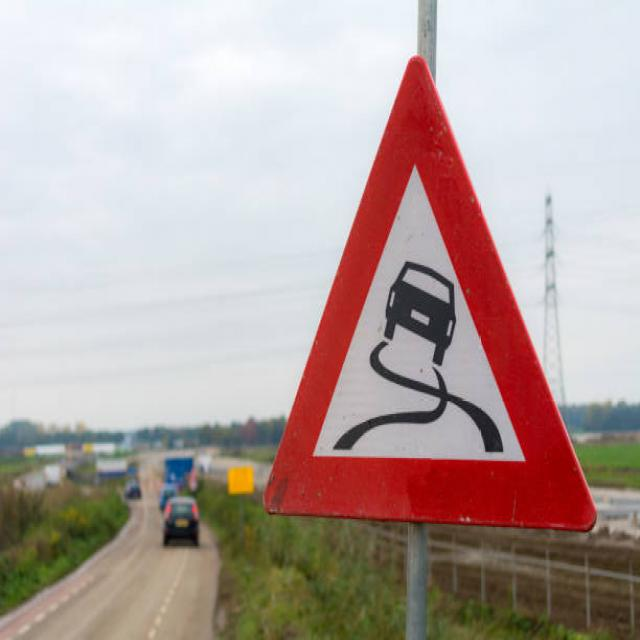road_slippery: (258, 49, 606, 542)
